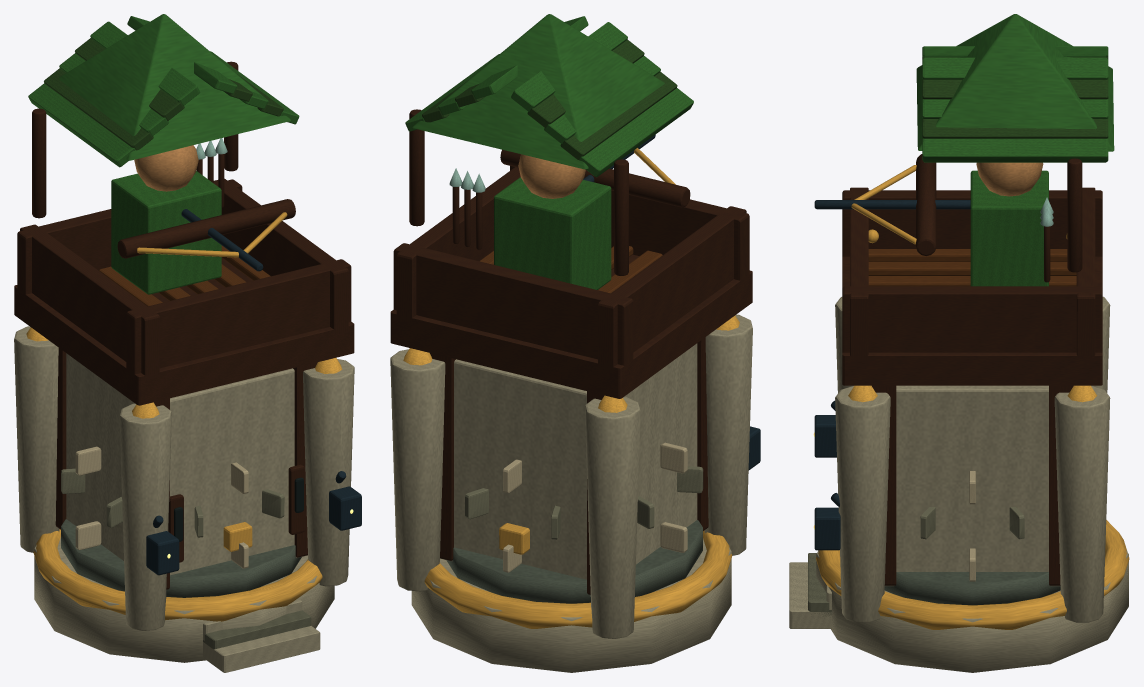
File: tower-arrow-2-base.glb
The picture shows the model from 3 angles, left to right: view 1: azimuth 30°, elevation 25°; view 2: azimuth 150°, elevation 25°; view 3: azimuth 270°, elevation 25°; orthographic projection. The views are drawn at different scales.
Parts seen in each view (by area): view 1: Turret, Foundation, arrow-L2-base; view 2: Turret, Foundation, arrow-L2-base; view 3: Turret, Foundation, arrow-L2-base.
Boxes of the visible parts, left/top/right/bottom form: Turret: left=14, top=14, right=354, bottom=405; Foundation: left=14, top=326, right=361, bottom=672; arrow-L2-base: left=34, top=519, right=334, bottom=662; Turret: left=390, top=14, right=752, bottom=398; Foundation: left=390, top=314, right=760, bottom=638; arrow-L2-base: left=411, top=520, right=731, bottom=672; Turret: left=814, top=14, right=1114, bottom=385; Foundation: left=789, top=296, right=1129, bottom=629; arrow-L2-base: left=816, top=550, right=1128, bottom=672.
Size of the model in its own units: 1.69 by 3.52 by 1.83.
Materials: 15 (15 with a texture image).
